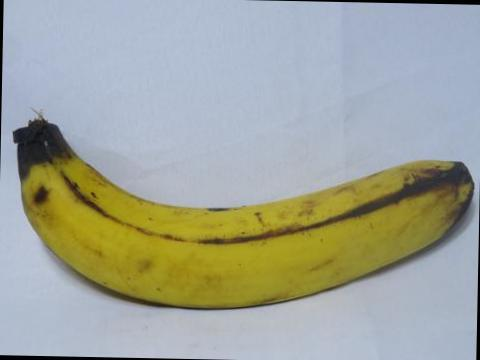ripe: (10, 110, 479, 326)
